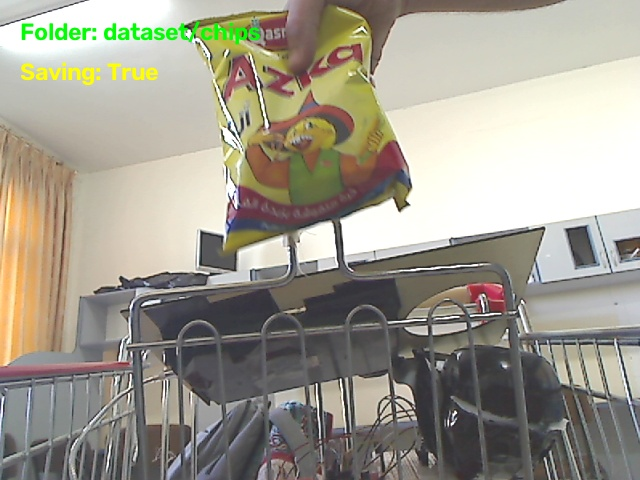chips: (189, 7, 410, 251)
